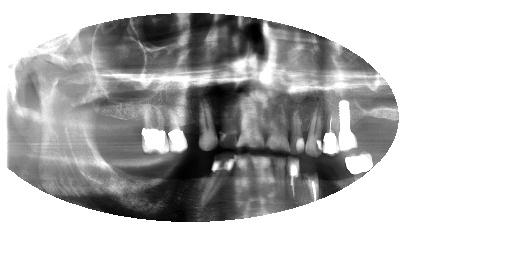Cavity: (303, 158, 326, 201)
Fillings: (139, 93, 171, 154), (168, 98, 189, 156), (344, 153, 375, 179)
Implant: (334, 98, 362, 153)
